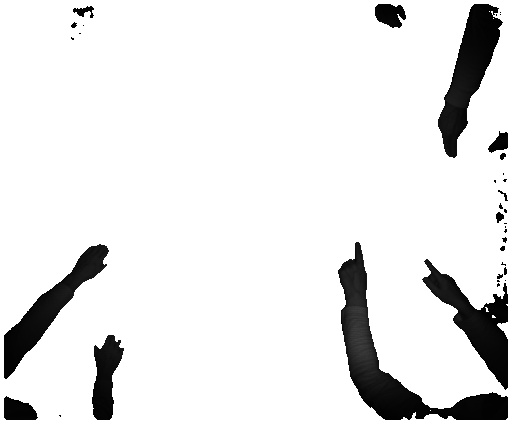hand: (416, 256, 466, 309), (336, 240, 367, 303), (432, 110, 471, 159), (74, 240, 111, 289), (95, 328, 127, 377)
